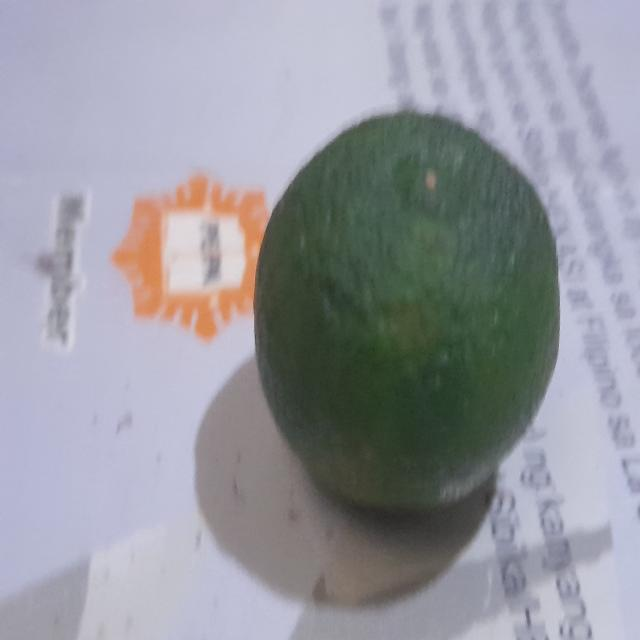heathy: (253, 111, 562, 518)
